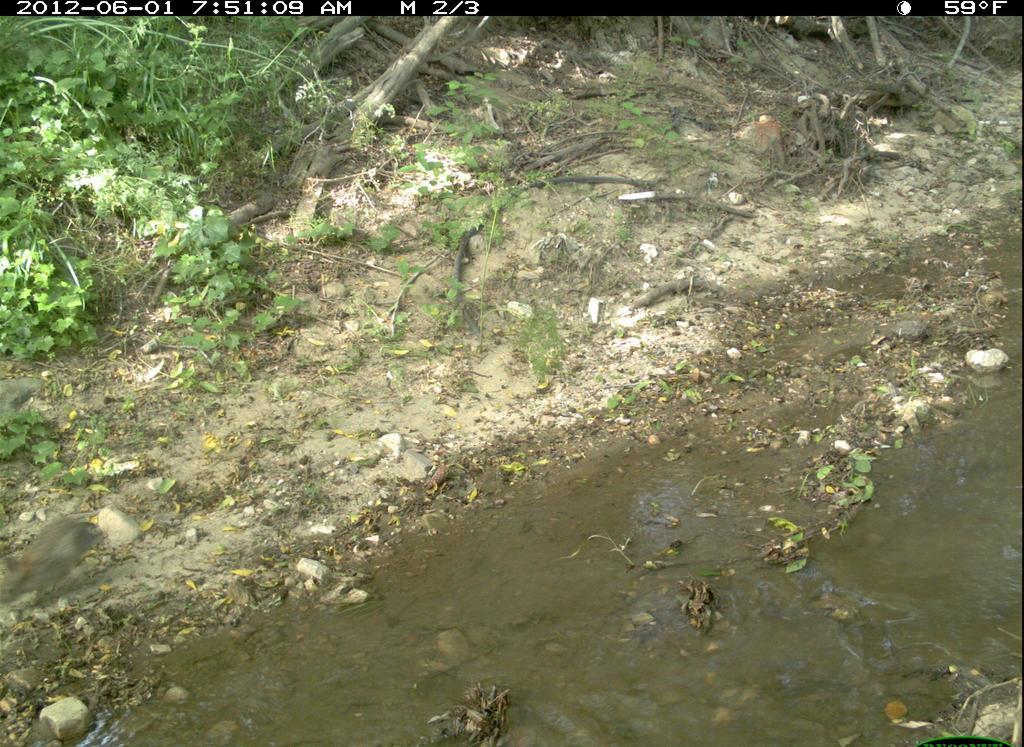rabbit: (2, 498, 122, 632)
